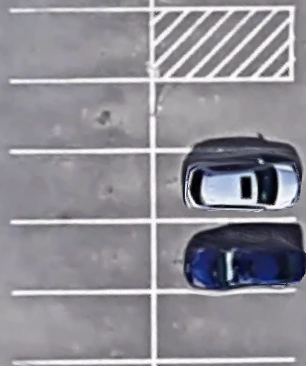Occupied: (154, 219, 294, 291), (151, 9, 292, 80), (152, 153, 292, 220)
Vacant: (12, 220, 153, 295), (9, 9, 151, 81), (11, 151, 153, 223), (13, 292, 154, 364), (9, 81, 153, 150), (152, 81, 290, 152), (153, 292, 295, 361)
